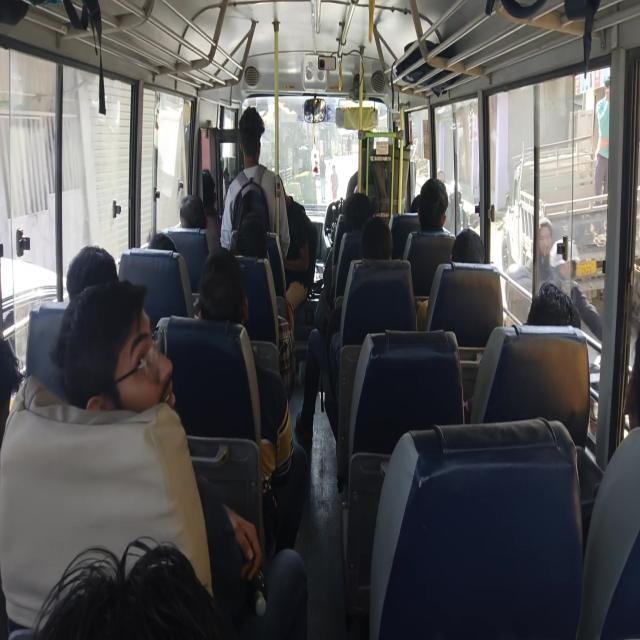person: (59, 551, 221, 640), (92, 276, 154, 398), (274, 153, 321, 297), (534, 279, 594, 346), (219, 217, 279, 281), (0, 334, 39, 422), (228, 103, 263, 170), (139, 222, 179, 274), (72, 243, 120, 286), (206, 263, 240, 322), (422, 181, 456, 233), (348, 193, 380, 243), (454, 232, 491, 271), (369, 214, 396, 266), (173, 199, 205, 235), (332, 195, 360, 223), (239, 198, 265, 226), (412, 182, 424, 207)
